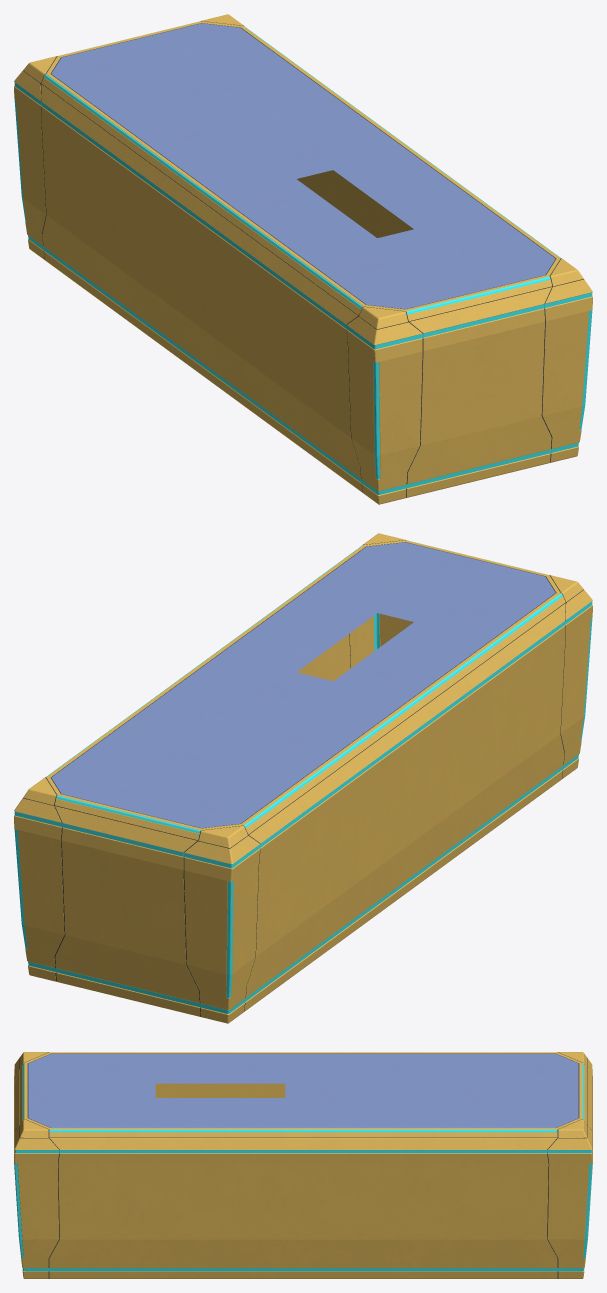
The model's file is PlatformA.fbx.
3 renders of one model, top to bottom at view 1: azimuth 30°, elevation 25°; view 2: azimuth 150°, elevation 25°; view 3: azimuth 270°, elevation 25°, orthographic. The views are drawn at different scales.
Visible parts, largest first — view 1: SM_VA_PlatformA.mo; view 2: SM_VA_PlatformA.mo; view 3: SM_VA_PlatformA.mo.
Part boxes in pixels (<box>): SM_VA_PlatformA.mo: <box>14,14,592,504</box>; SM_VA_PlatformA.mo: <box>14,533,592,1023</box>; SM_VA_PlatformA.mo: <box>14,1052,592,1278</box>.
Bounding box in the file's own units: 22.52 × 18.35 × 64.41.
